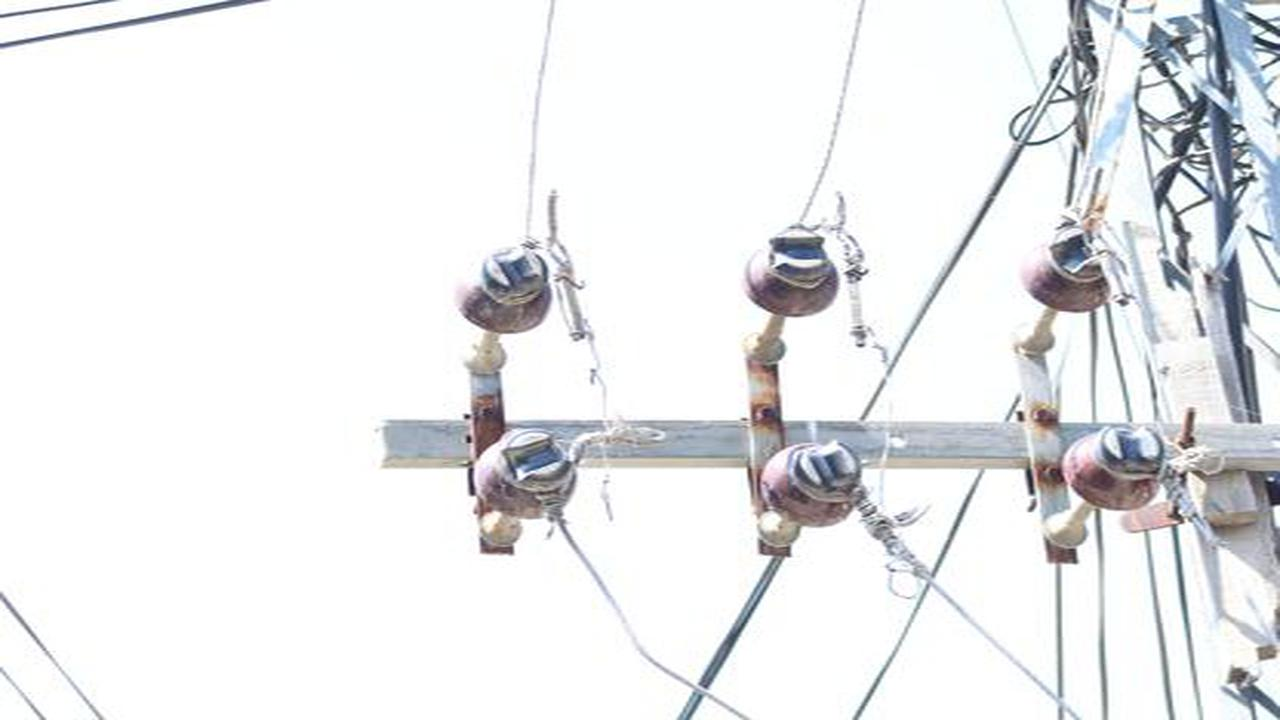insulator_pin: (757, 426, 865, 536), (466, 427, 581, 526), (1060, 414, 1167, 515), (737, 221, 843, 320), (1014, 214, 1122, 311), (453, 244, 552, 336)
